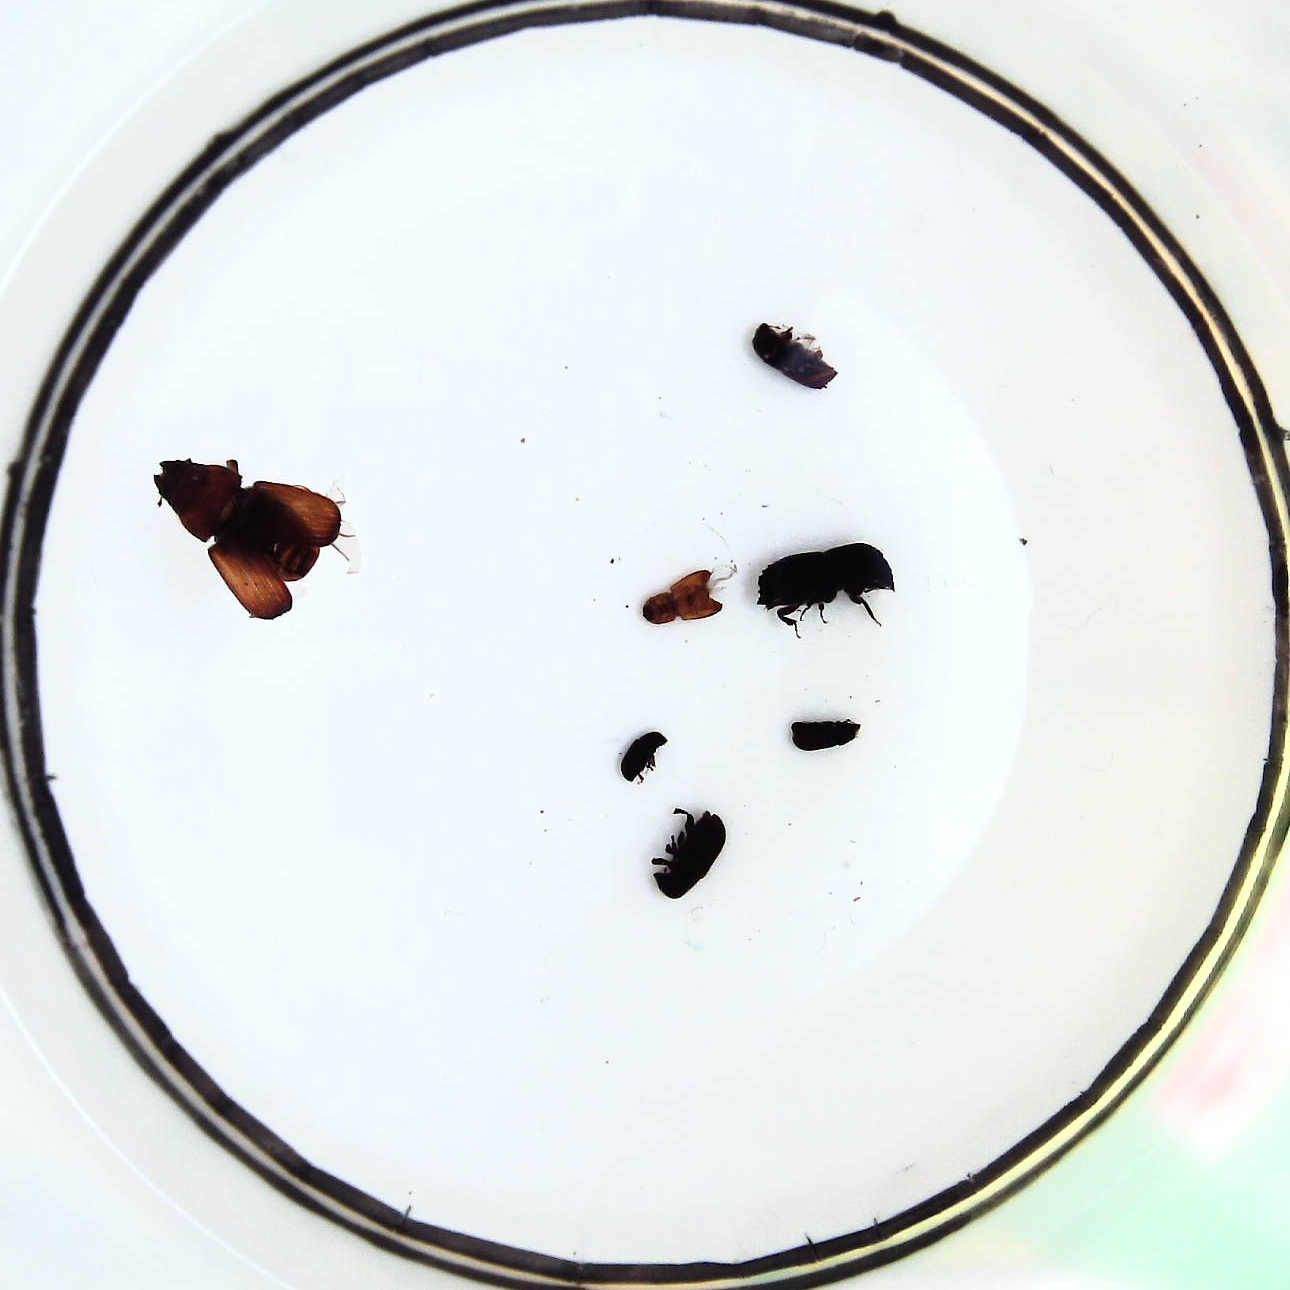Boerner: (757, 542, 895, 617)
Leconte: (155, 456, 343, 623)
Linnaeus: (755, 322, 836, 389)
acuminatus: (646, 566, 719, 626)
armandi: (649, 812, 727, 899)
coleoptera: (793, 718, 858, 754), (623, 732, 666, 784)
